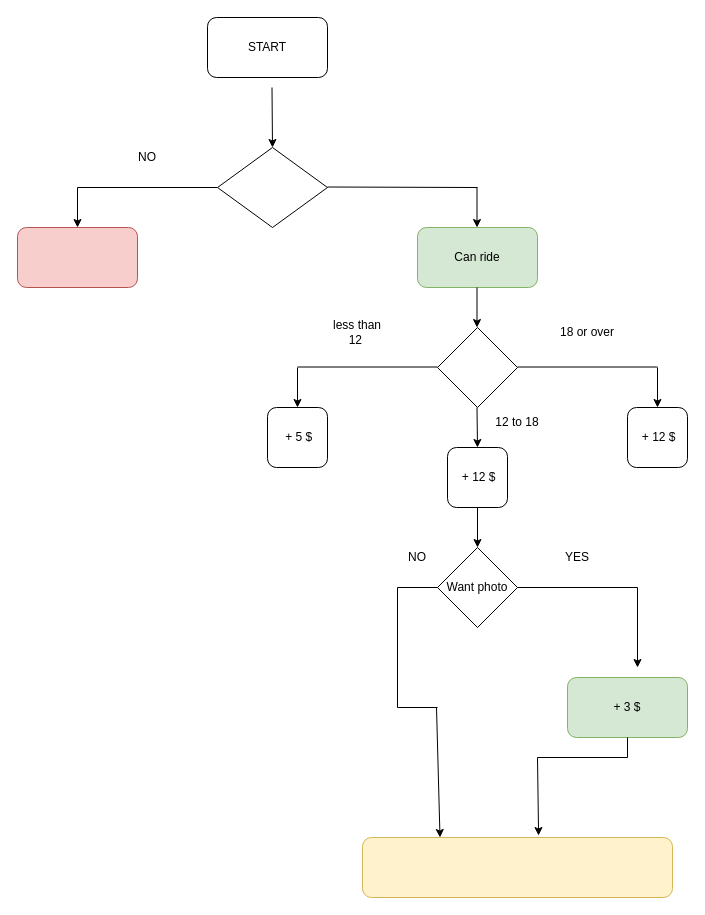
Image size: 705x915. Some labels were removed from this diagram. Each missing label, with the centre of its shape:
"Age" goes at [477,367].
"Can't ride" goes at [77,257].
"Heihgt > 120 cm" goes at [272,187].
"The Total bill is x$" goes at [517,867].
